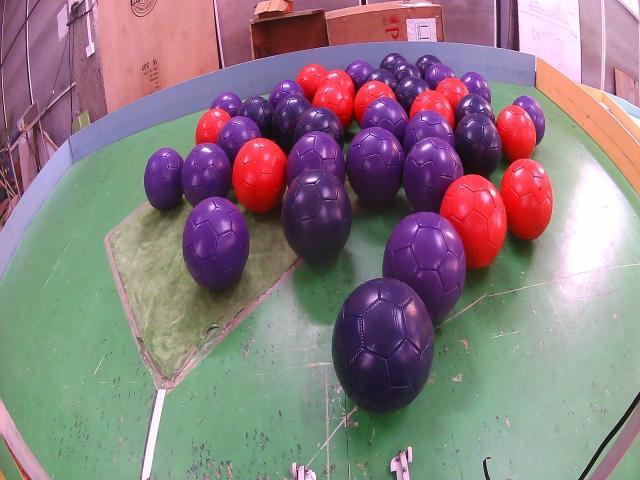jambhalya: (382, 212, 466, 322), (182, 197, 250, 292), (346, 127, 405, 205), (404, 137, 464, 212), (286, 132, 345, 187), (181, 143, 231, 207), (144, 147, 184, 210), (402, 110, 456, 154), (216, 117, 261, 167), (360, 98, 409, 143), (514, 95, 545, 144), (269, 80, 305, 108), (460, 72, 491, 103), (345, 60, 374, 93), (425, 63, 455, 90), (210, 92, 242, 117)
kaalyya: (331, 278, 434, 413), (282, 170, 352, 263), (455, 112, 502, 177), (271, 95, 311, 153), (294, 107, 344, 150), (238, 95, 274, 138), (395, 75, 430, 115), (454, 93, 496, 126), (366, 68, 398, 92), (391, 60, 421, 82), (415, 55, 440, 78), (380, 53, 405, 72)
